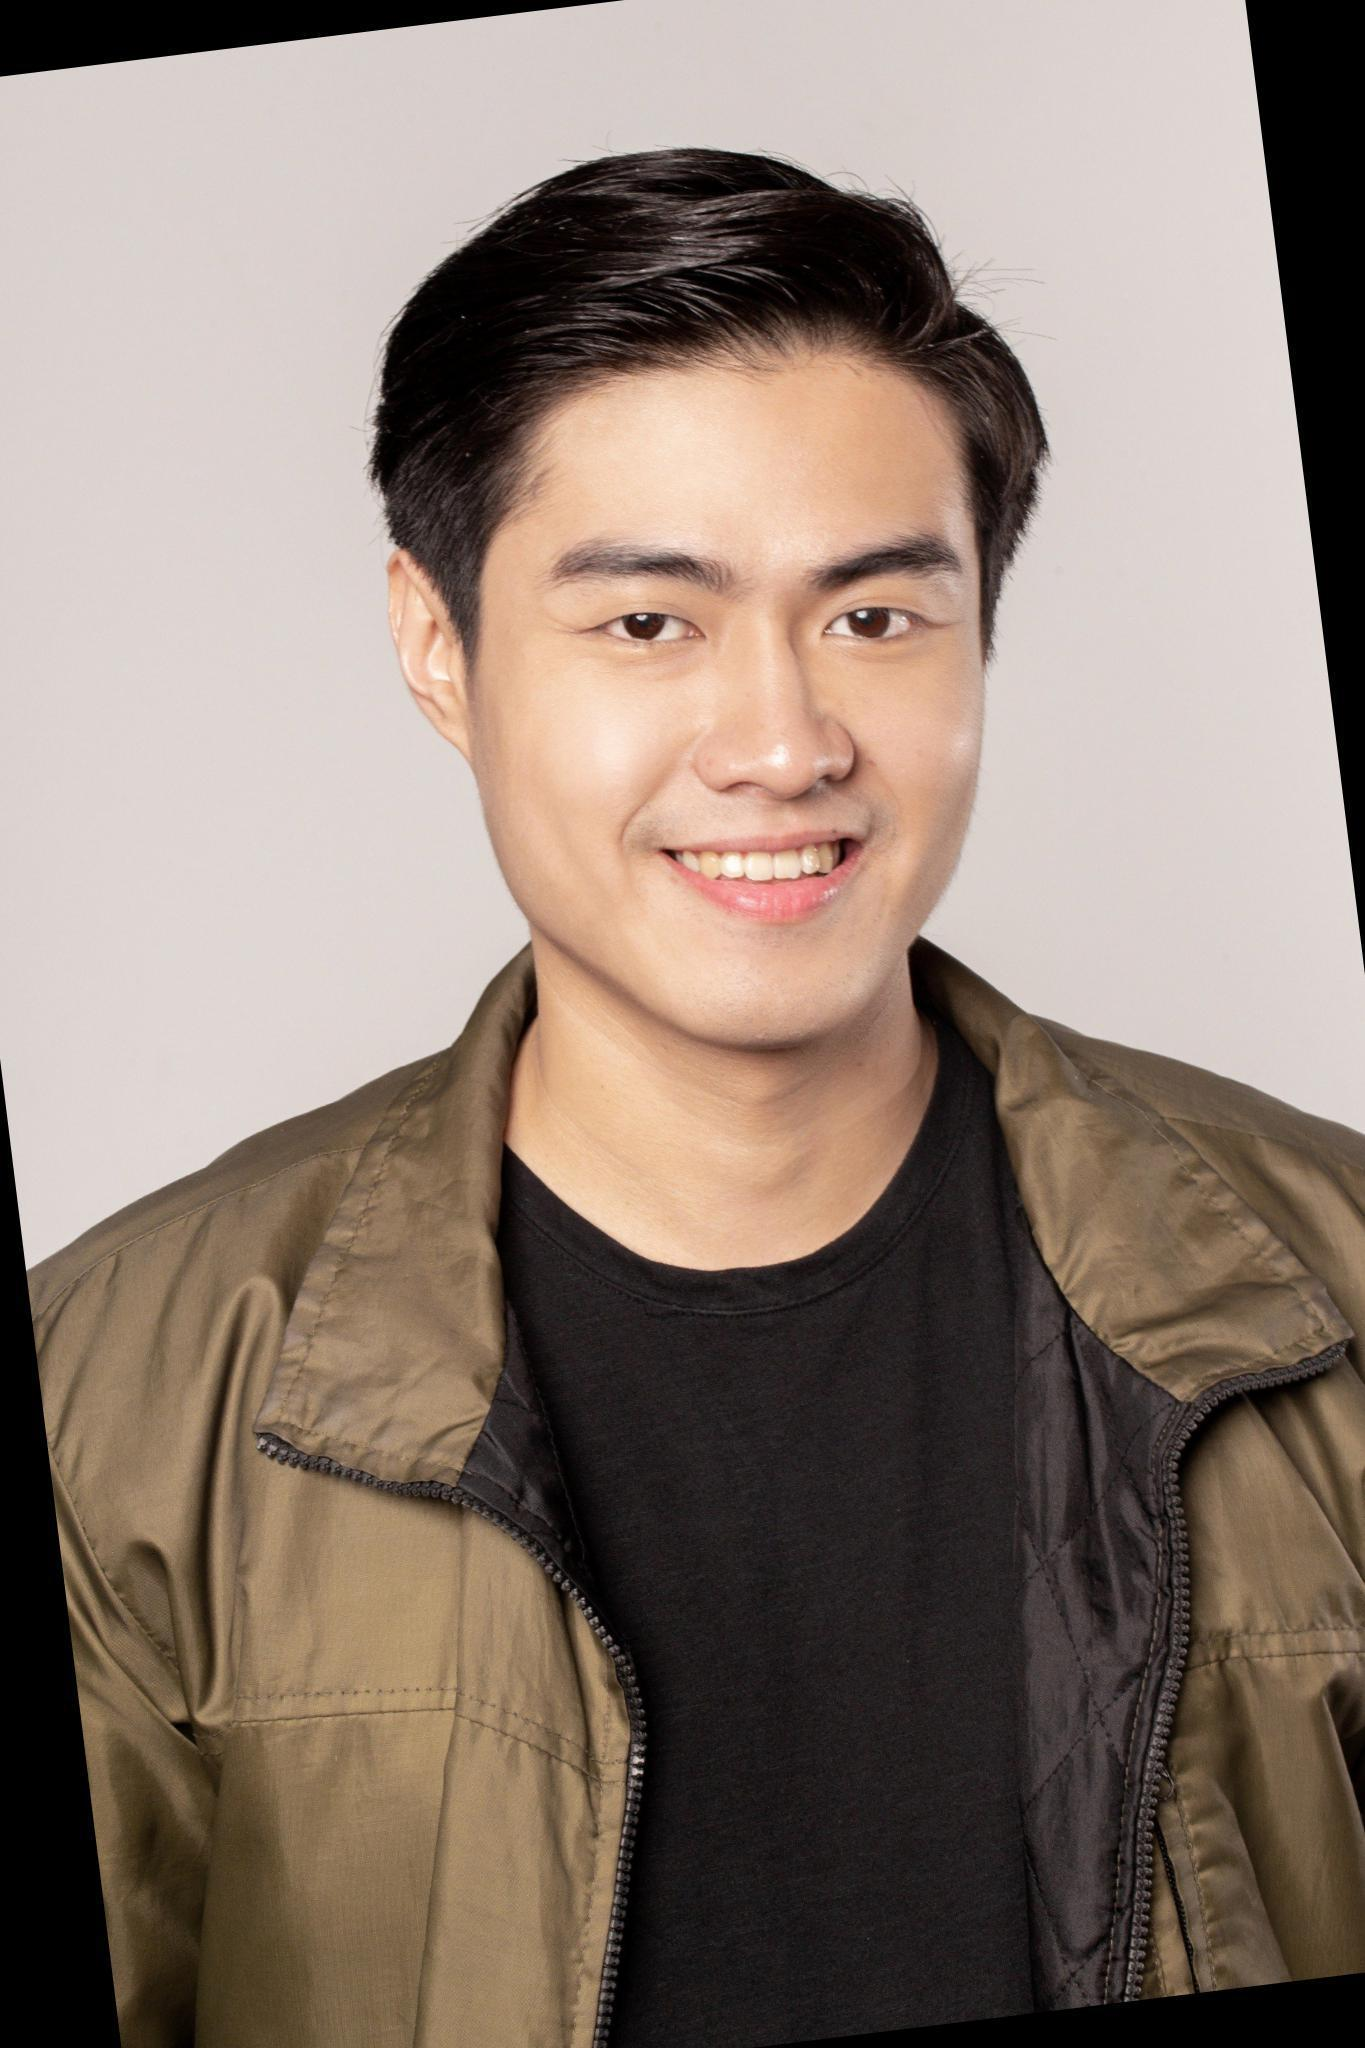Sober: (512, 387, 970, 1051)
